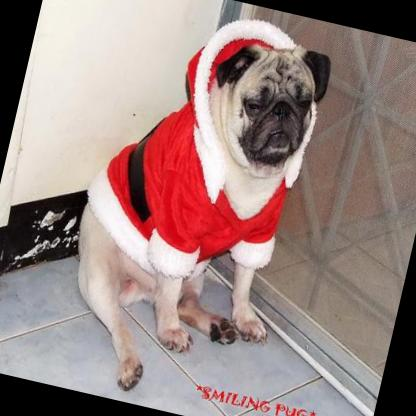pug: (45, 0, 338, 416)
